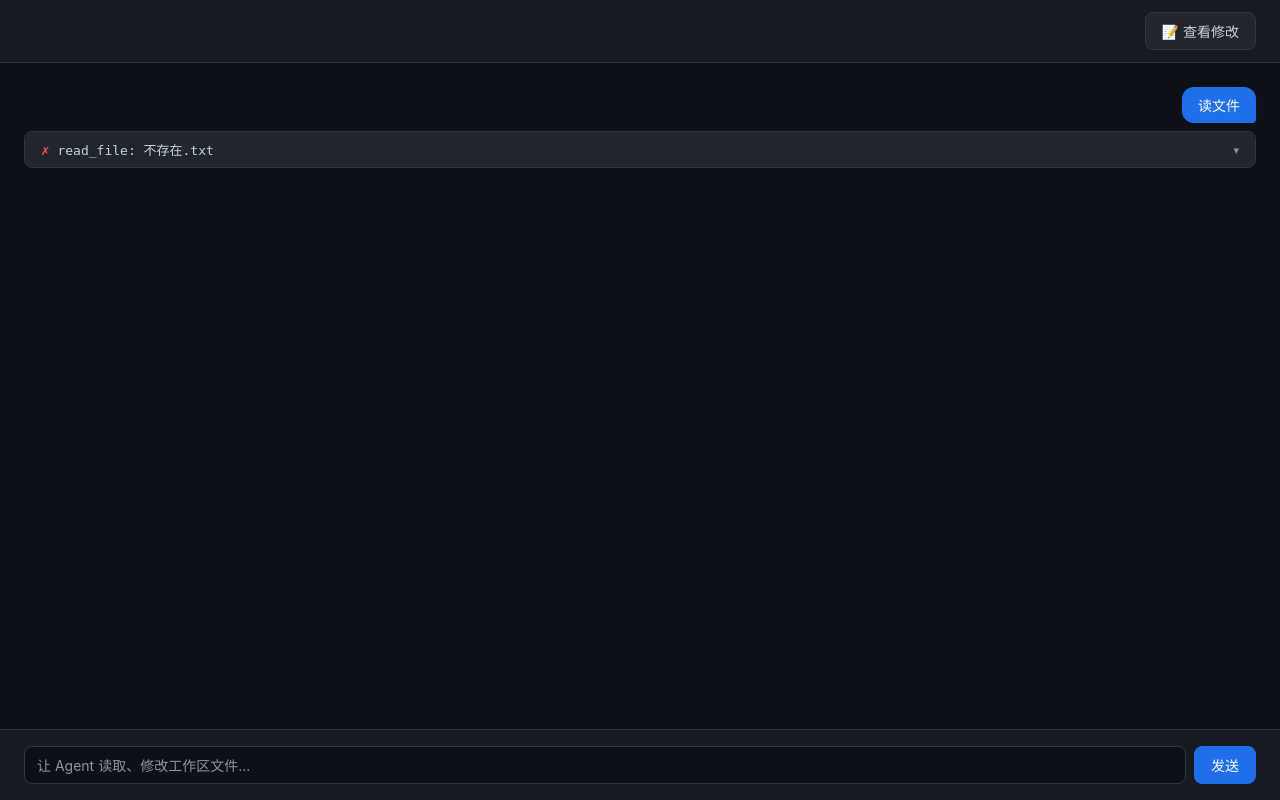
Conversation › 只读工具失败时显示错误样式
This screenshot has width=1280, height=800.
Expected: the element with test id "tool-card" shows "✗", x1=41 y1=142 x2=49 y2=158
# 展开后看到错误信息
Click the button with class "tool-header" at (136, 150), box x1=25 y1=132 x2=1255 y2=167
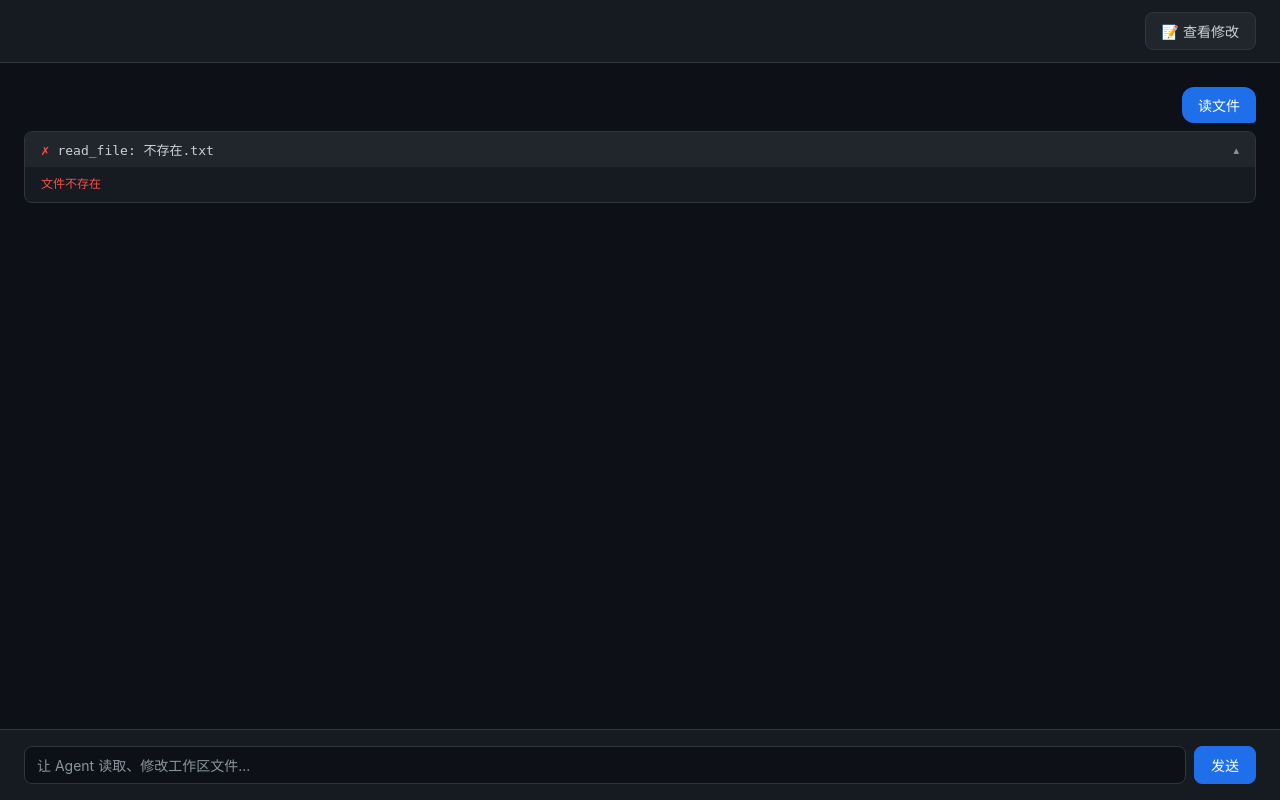
Now the element with test id "tool-card" shows "文件不存在", box x1=41 y1=177 x2=101 y2=191
